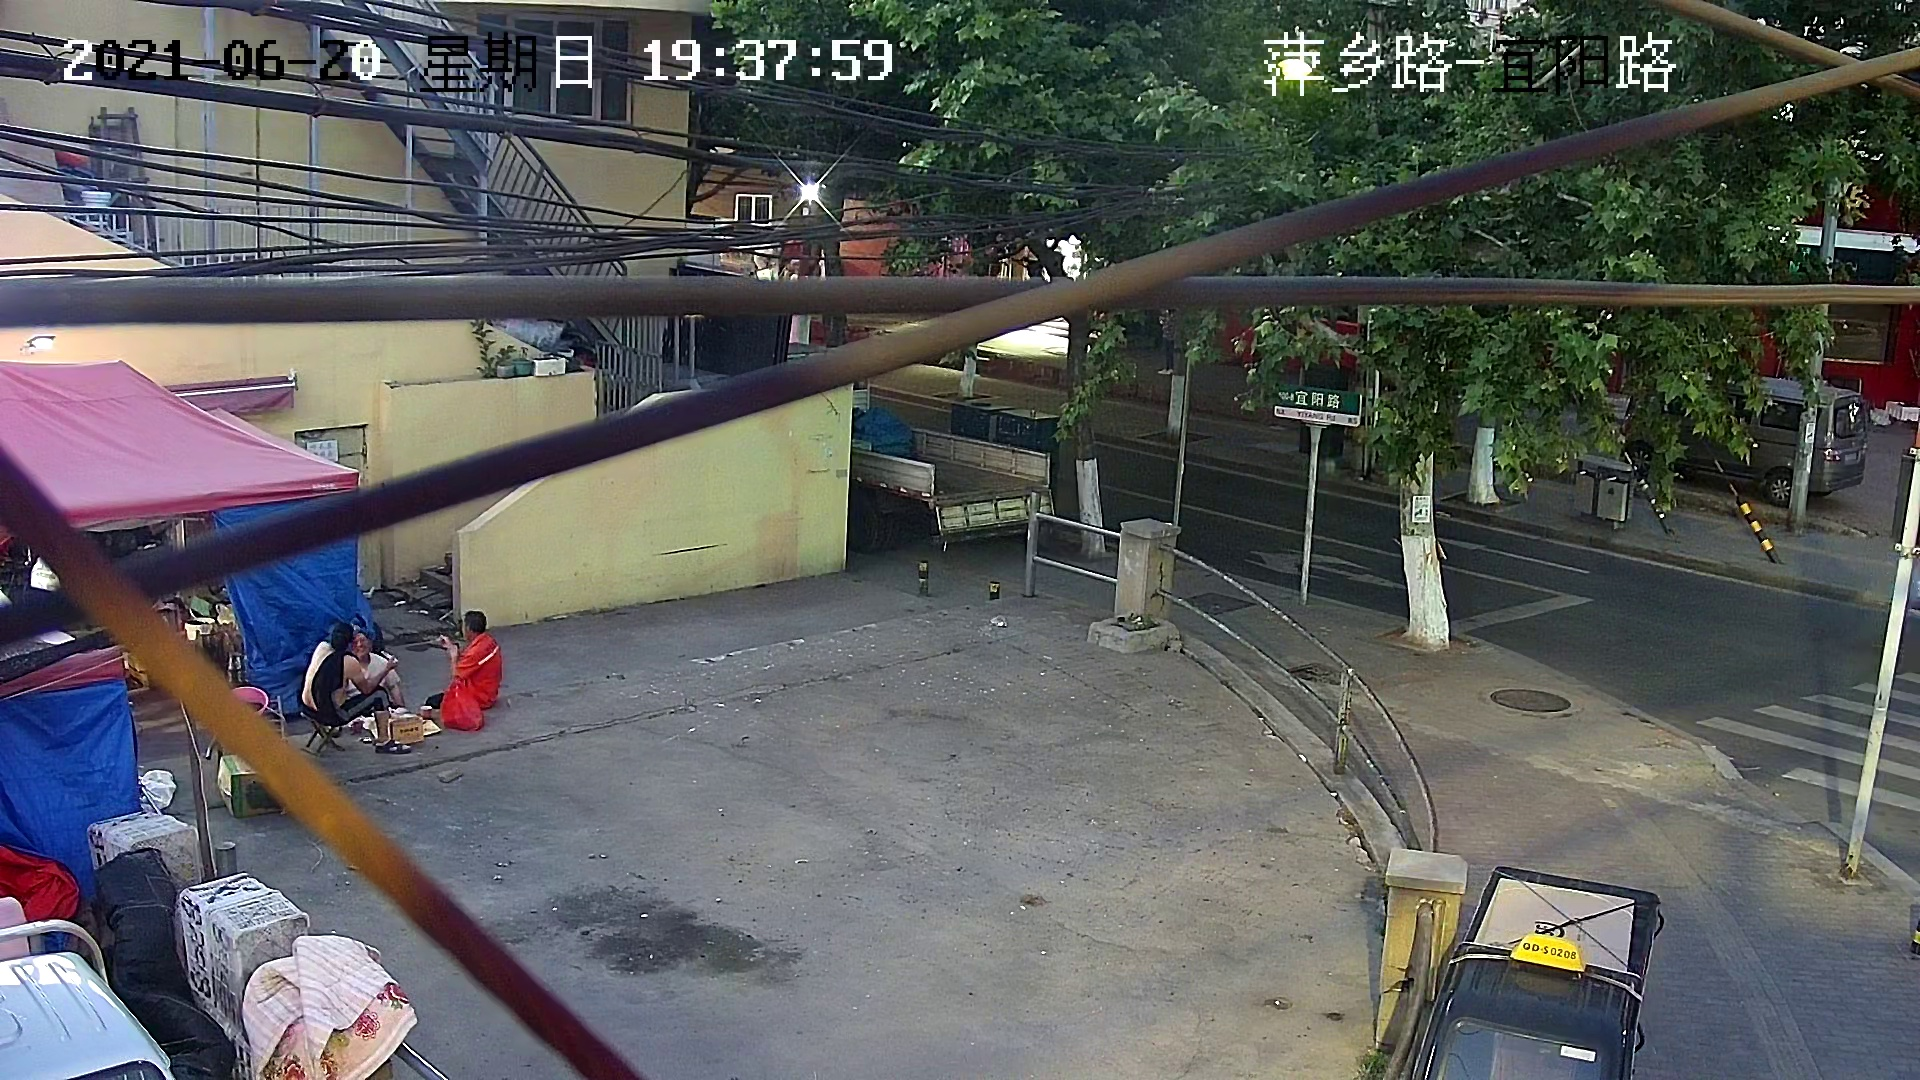chair: (305, 705, 349, 761), (1865, 398, 1888, 425)
table: (1884, 396, 1917, 422)
table_chair: (1865, 393, 1919, 426)
umbrella: (1, 353, 363, 504)
